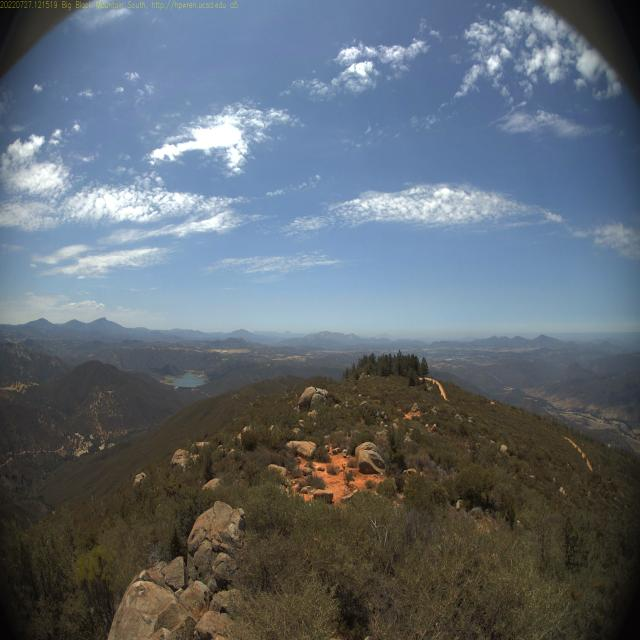smoke: (162, 312, 182, 352)
